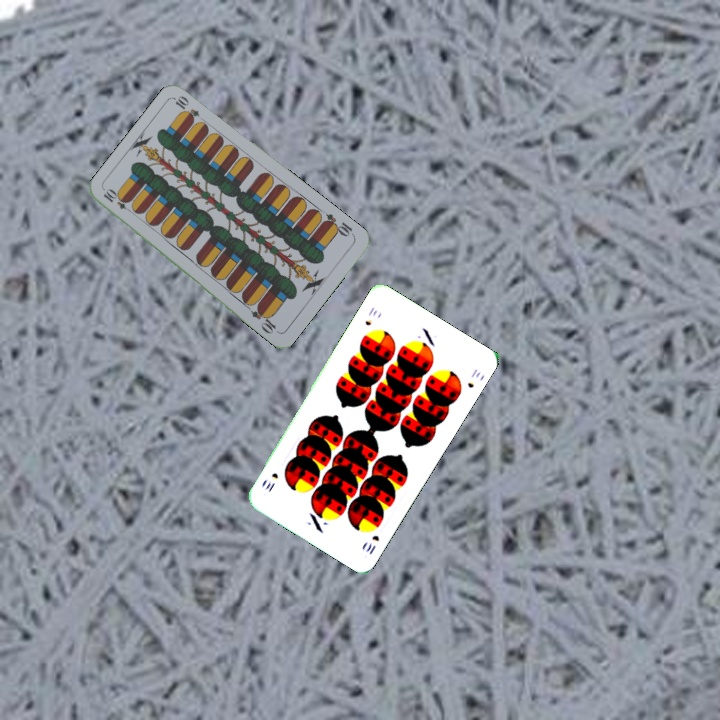E10: (319, 210, 357, 240), (99, 186, 136, 216)
S10: (362, 531, 382, 557), (361, 303, 380, 328)
